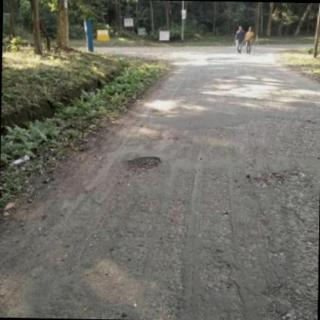pothole: (124, 157, 162, 175)
